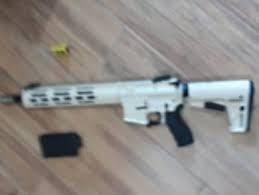larga: (0, 72, 256, 148)
